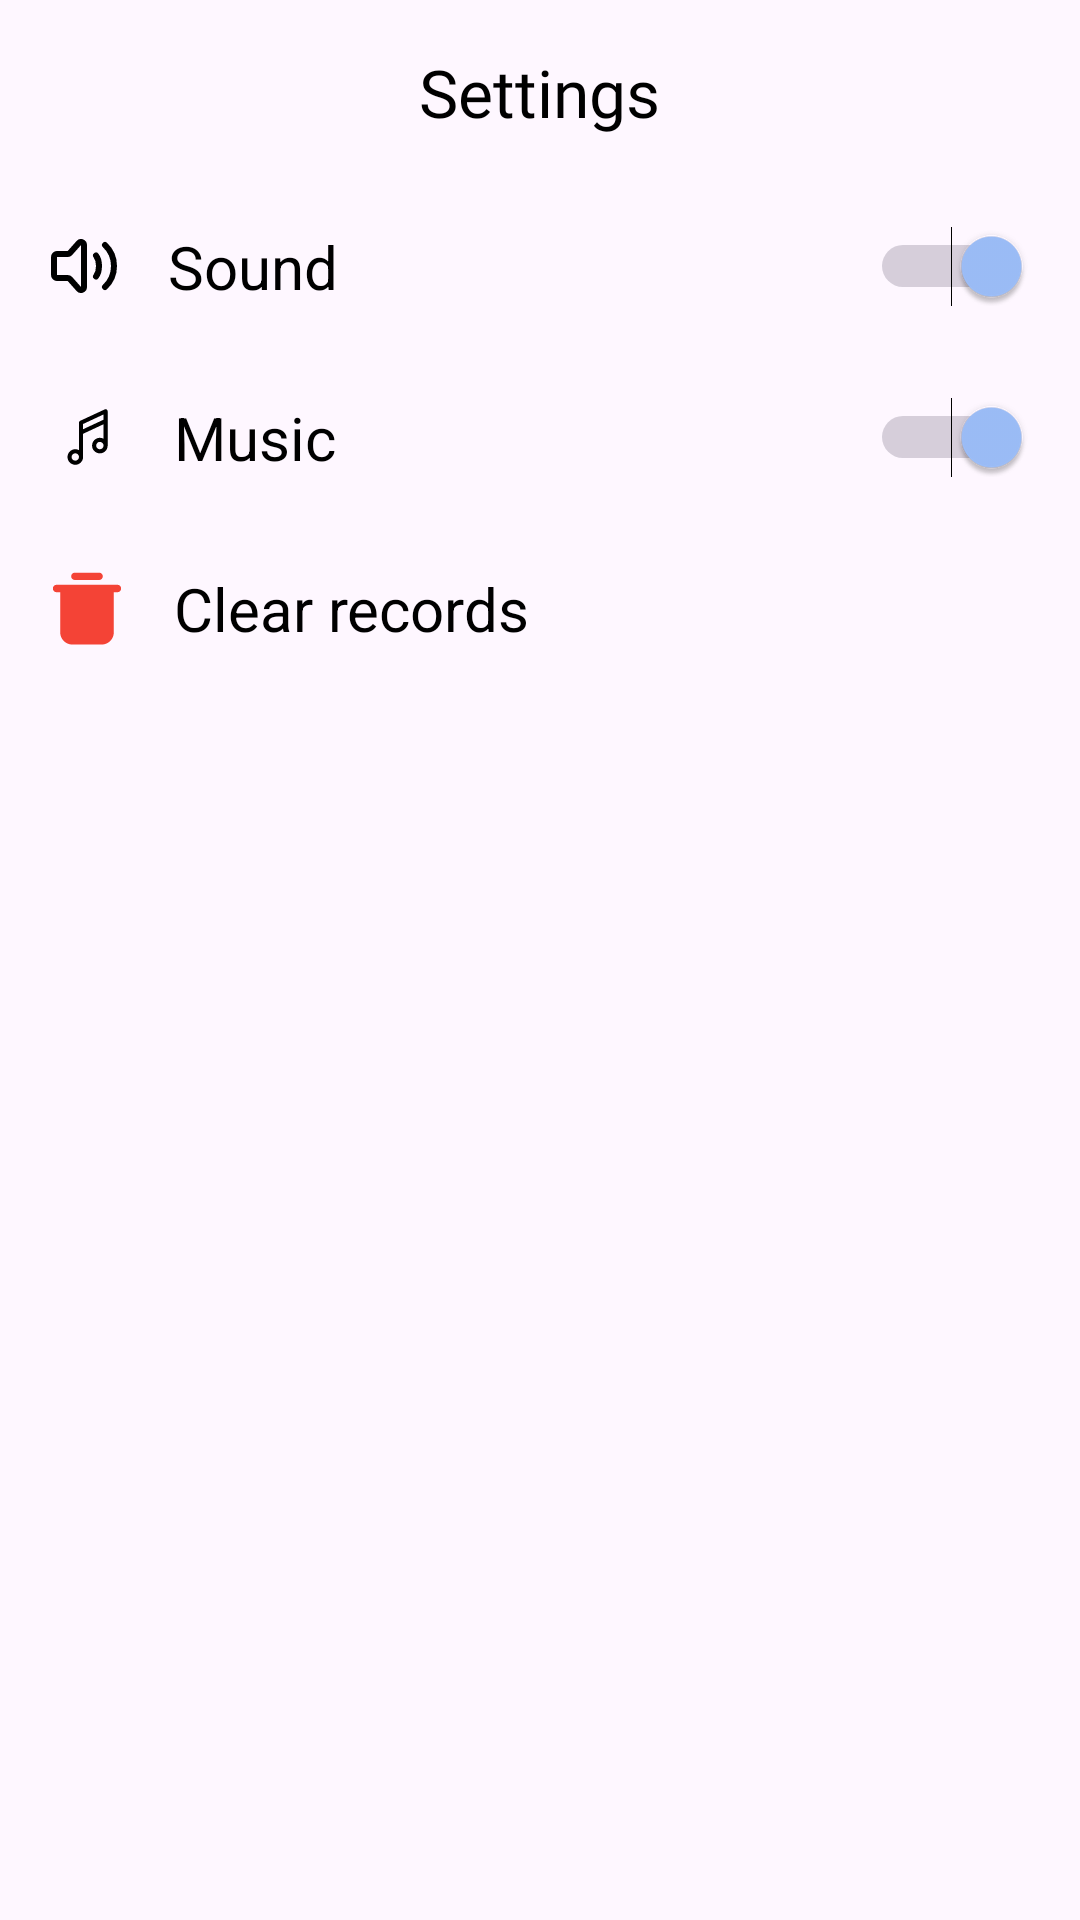

Where icons sit on this 1080w x 1920h app screen, as (x1, y1, x2, y2):
delete: (53, 572, 121, 645)
